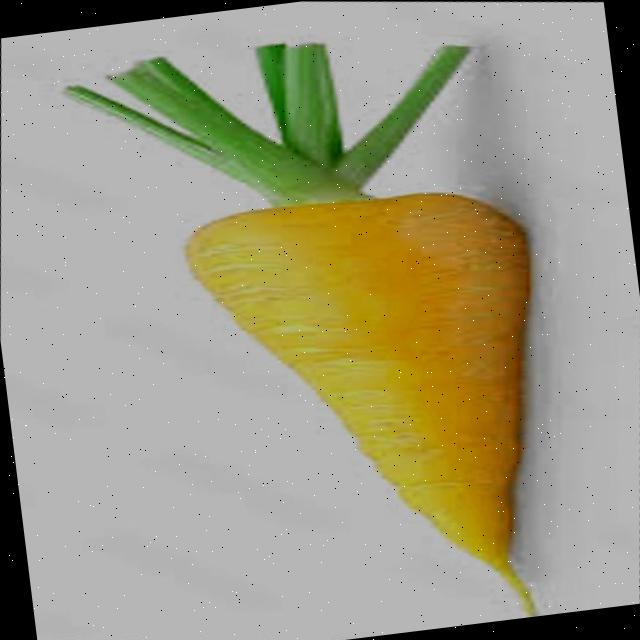carrot: (66, 42, 535, 617)
